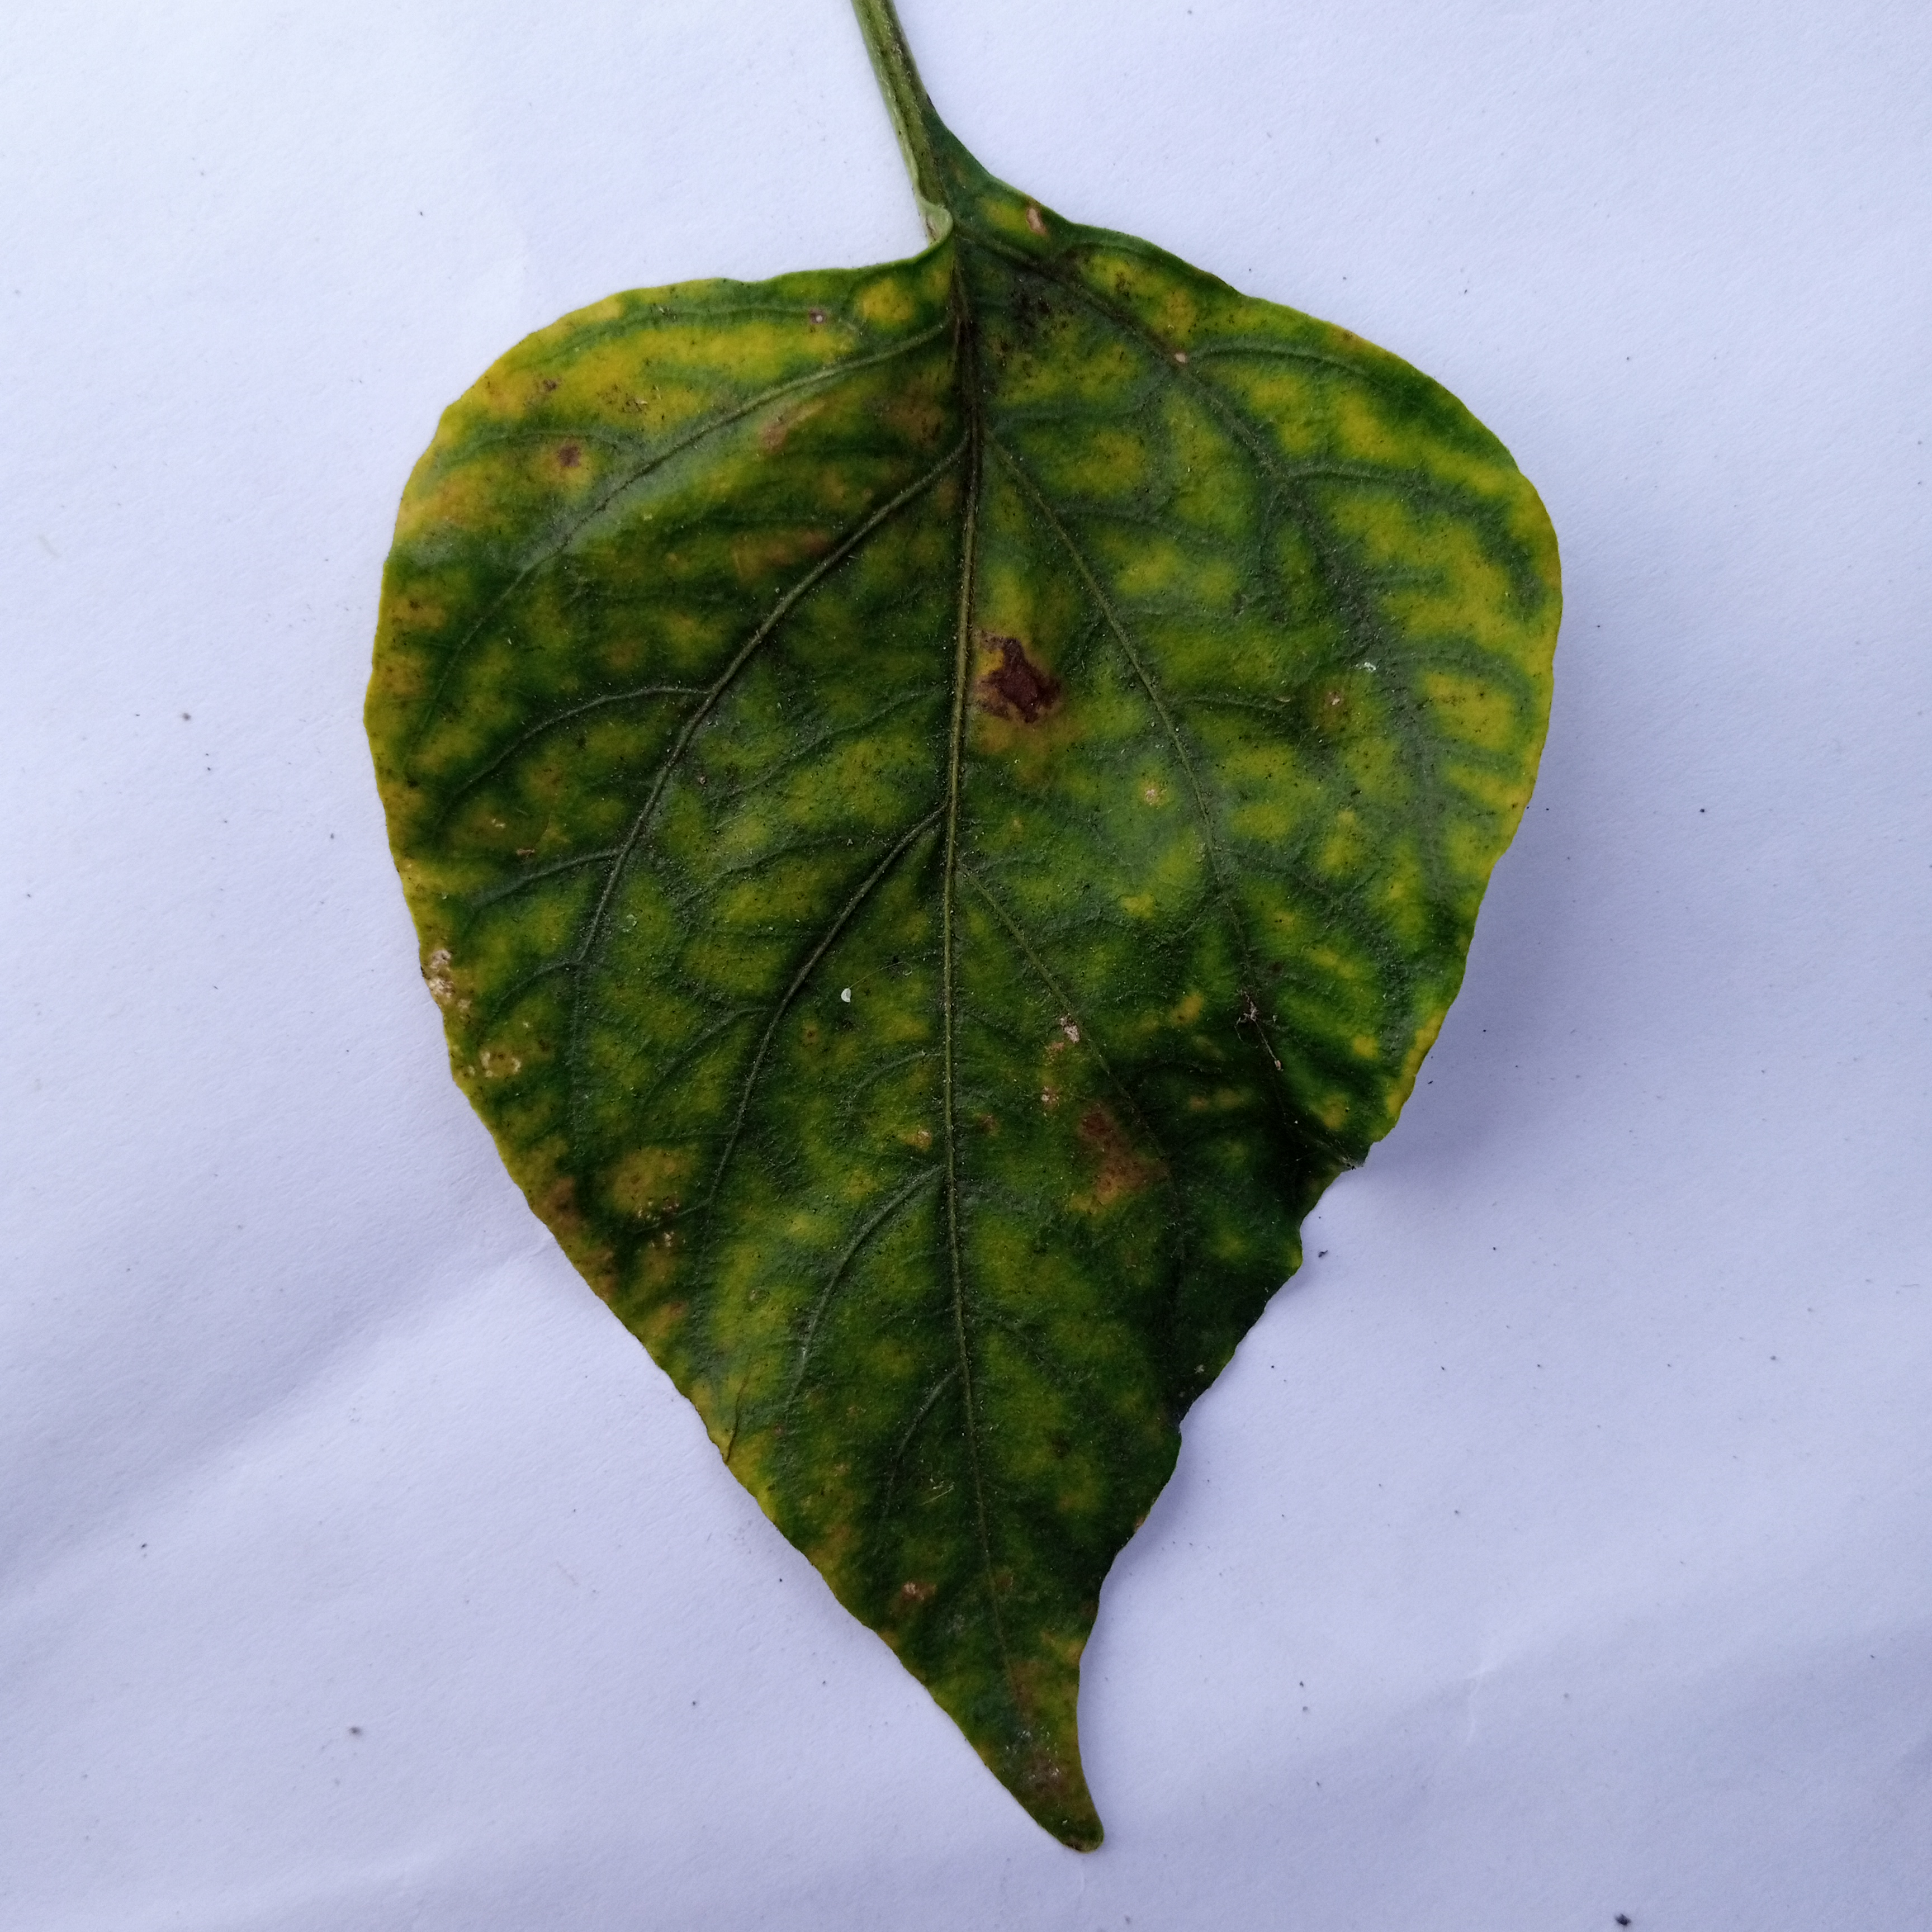Leaf: (228, 145, 1702, 1886)
